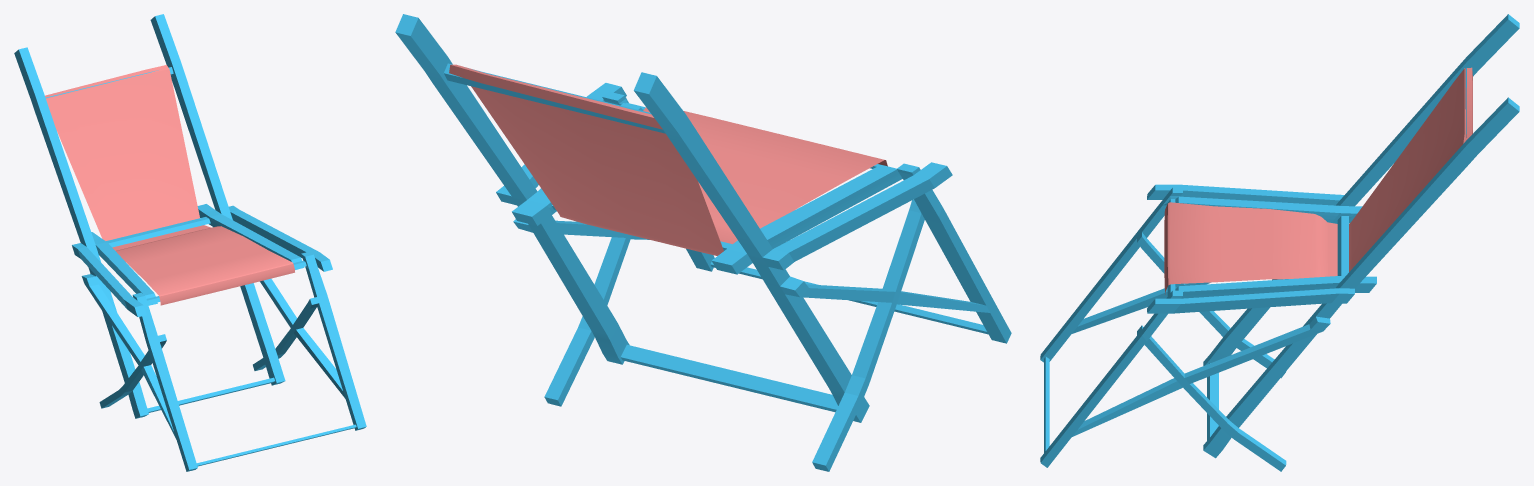
The model's file is Chair_2 alt.FBX.
The picture shows the model from 3 angles, left to right: view 1: azimuth 30°, elevation 25°; view 2: azimuth 150°, elevation 25°; view 3: azimuth 270°, elevation 25°; orthographic projection. The views are drawn at different scales.
Visible parts, largest first — view 1: Plane001; view 2: Plane001; view 3: Plane001.
Boxes of the visible parts, x1,y1,x2,y2 form: Plane001: (14,14,366,471); Plane001: (395,14,1011,471); Plane001: (1040,14,1519,471).
Bounding box in the file's own units: 78.21 × 111 × 133.
